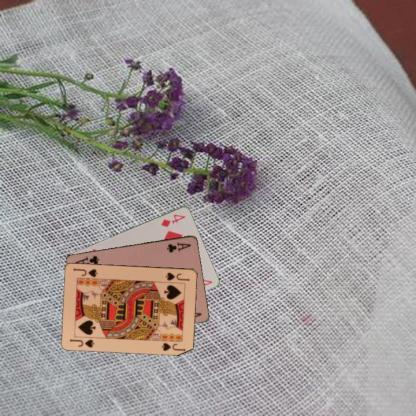4d: (158, 212, 187, 228)
Ac: (164, 239, 192, 254)
Js: (163, 269, 191, 283), (67, 336, 96, 348)
